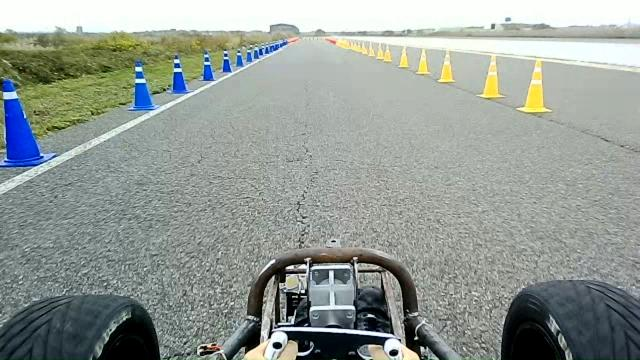blue cone: (0, 78, 57, 167), (127, 60, 157, 111), (165, 54, 193, 94), (197, 49, 216, 82), (220, 48, 232, 73), (234, 47, 244, 67), (252, 42, 260, 60)
yellow cone: (516, 58, 552, 114), (476, 54, 506, 100), (436, 48, 456, 83), (415, 47, 431, 75), (398, 46, 410, 68), (382, 44, 392, 62), (376, 42, 384, 60), (368, 41, 376, 57), (360, 42, 368, 55)
